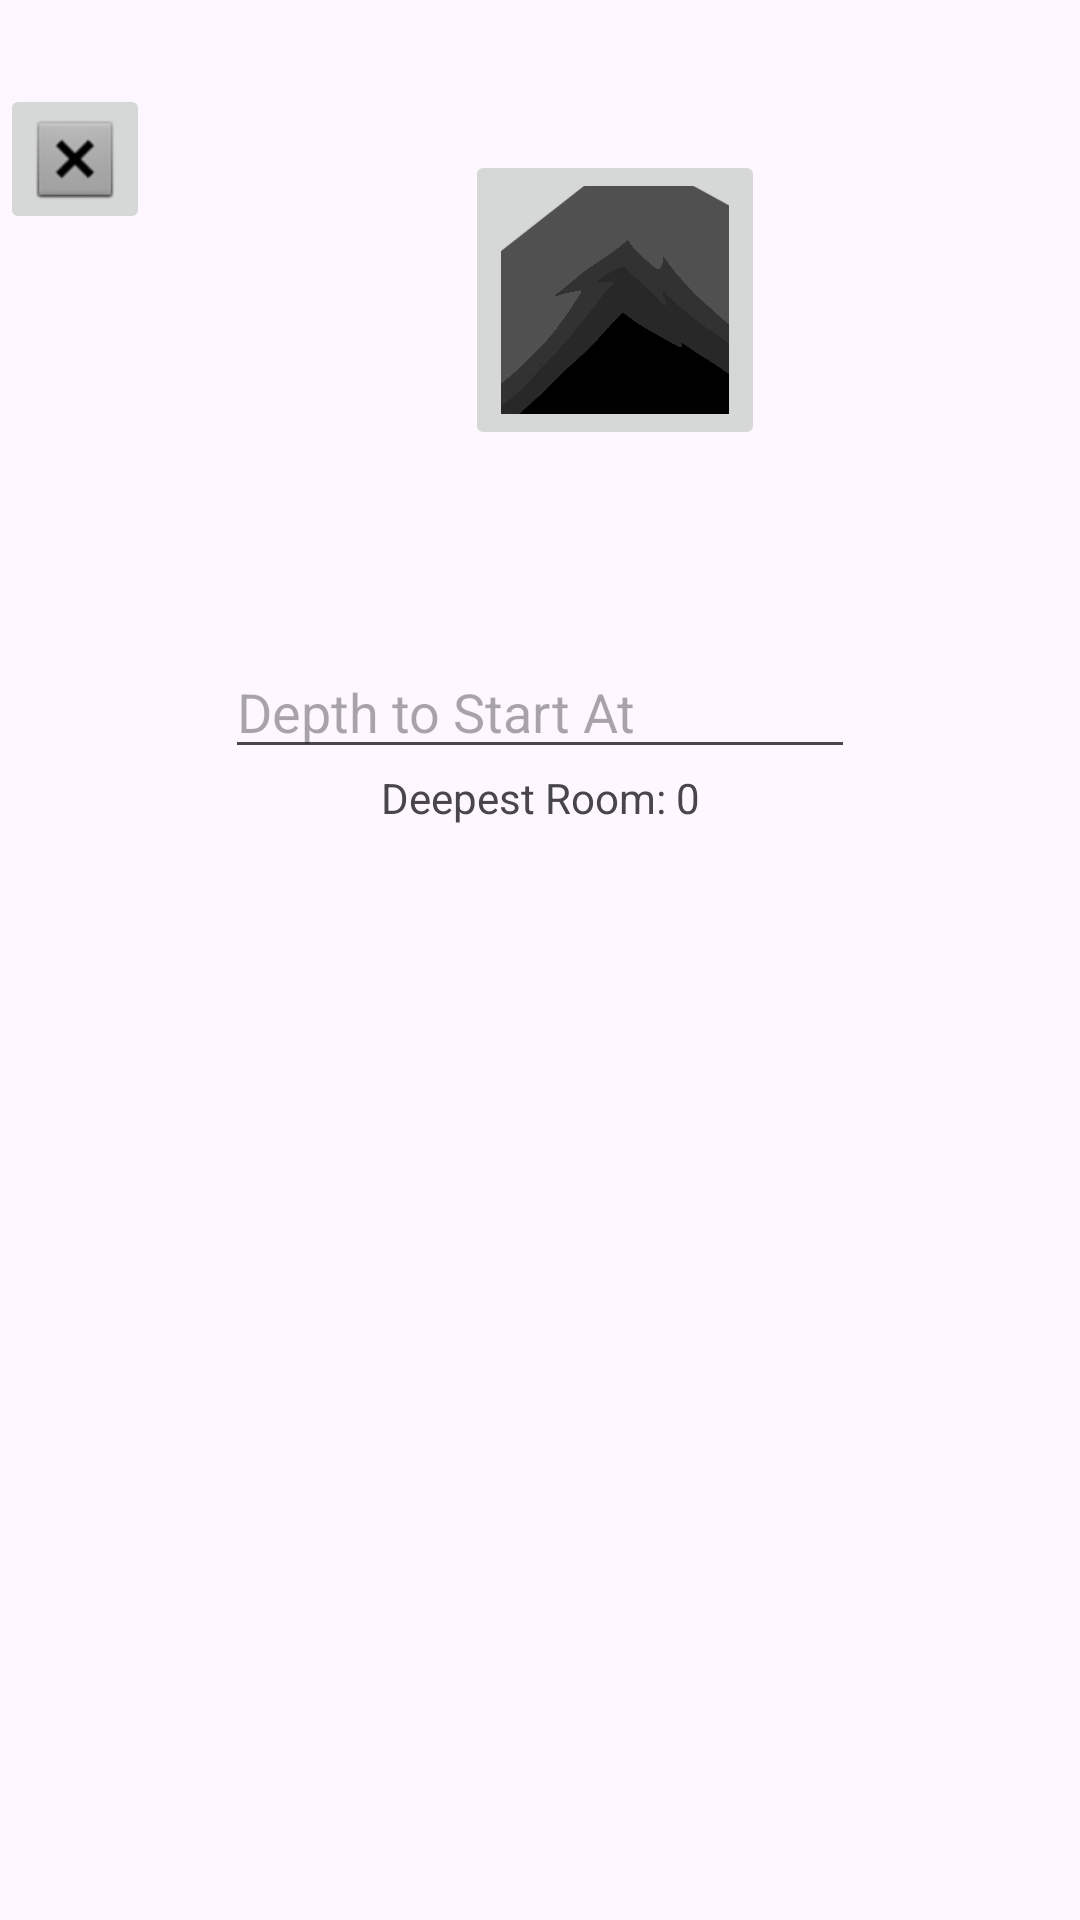

Locate icon controls on the screen. Image size 1080x1920, boxes as (x1, y1, x2, y2).
cave: (477, 168, 753, 432)
Go Back Button: (12, 102, 138, 216)
